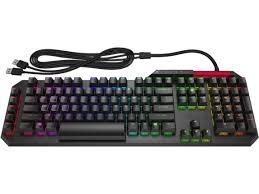keyboard: (0, 64, 259, 149)
